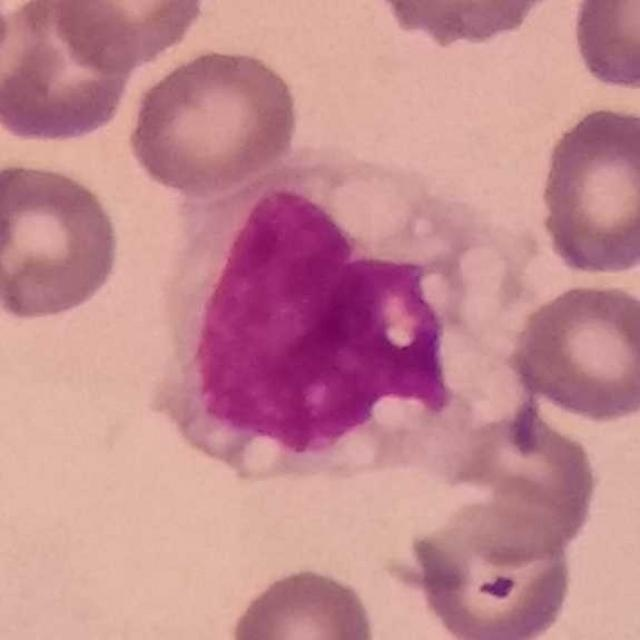Monocyte: (147, 162, 532, 492)
RBC: (121, 43, 305, 197), (448, 402, 604, 565), (405, 497, 579, 640), (0, 156, 125, 325), (0, 0, 139, 147), (506, 278, 640, 425), (533, 100, 640, 278), (223, 563, 379, 640), (49, 0, 212, 73), (358, 0, 570, 51), (566, 0, 640, 94)
